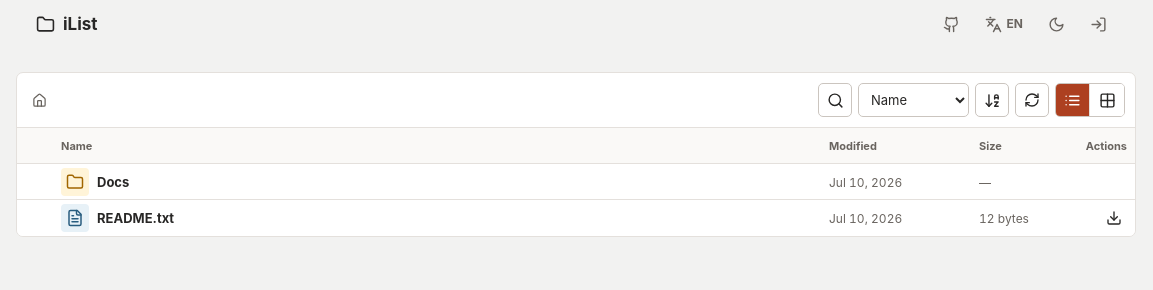
Test: ExplorerApp › refreshes the directory and disables refresh while loading
Check: the list named "Files and folders" is shown, box [17,164,1135,236]
Click the button named "Refresh": click(1032, 100) [1015,83,1049,117]
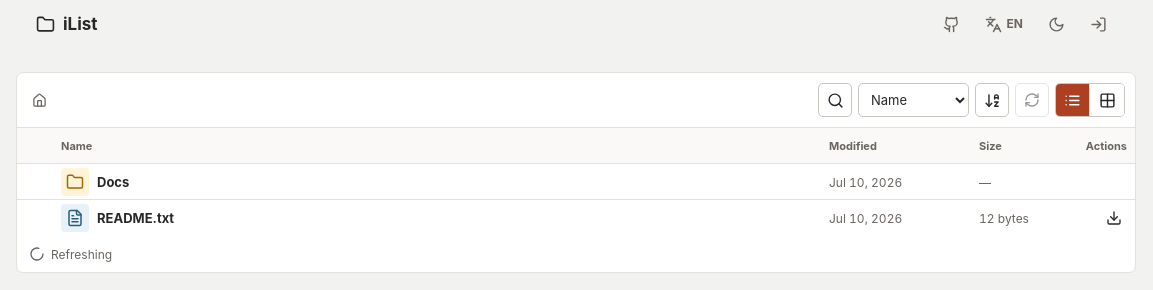
Check: the button named "Refresh" is disabled
Click the button named "Refresh": click(1032, 100) [1015,83,1049,117]
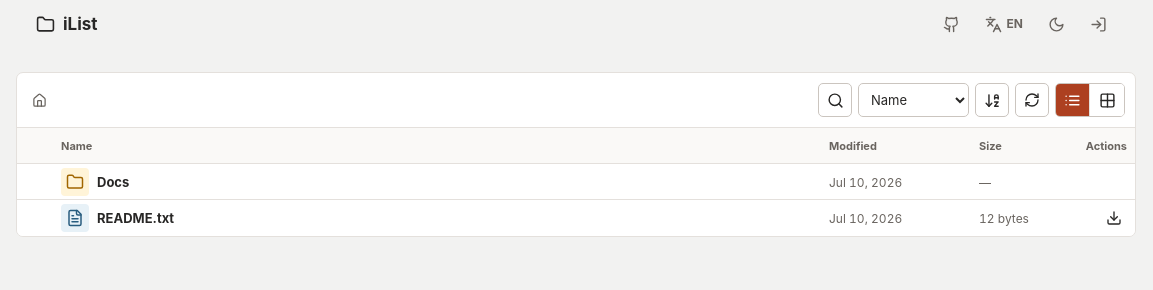
Check: the button named "Refresh" is enabled, box [1015,83,1049,117]
